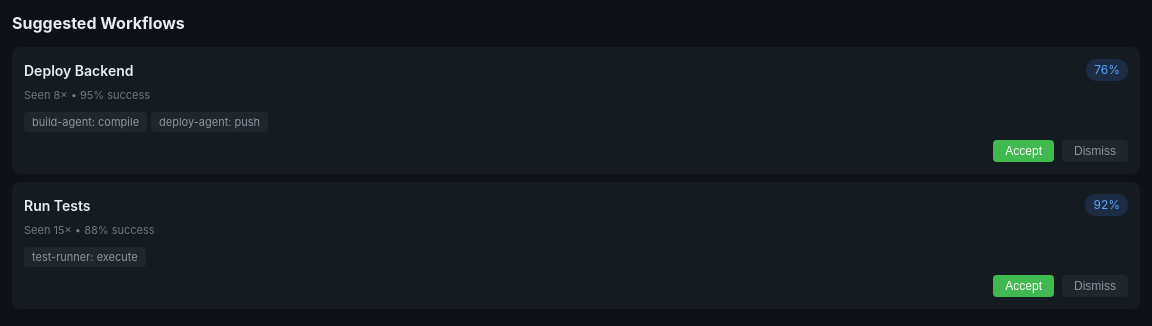
Test: PatternSuggestion › removes card on accept
The width and height of the screenshot is (1152, 326).
Expected: the number of elements with test id "suggestion-card" is 2, [12,47,1140,174]; [12,182,1140,309]
Click the button with test id "accept-suggestion-btn" below "76".
click(1024, 151)  # box [993,140,1054,162]
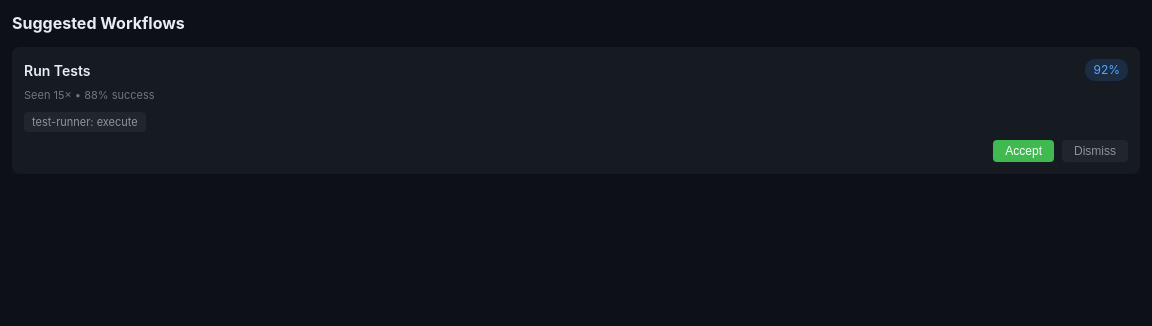
Expected: the text "Run Tests" is shown, [24,60,90,80]
Now the number of elements with test id "suggestion-card" is 1, box [12,47,1140,174]
Now the text "Deploy Backend" is gone
